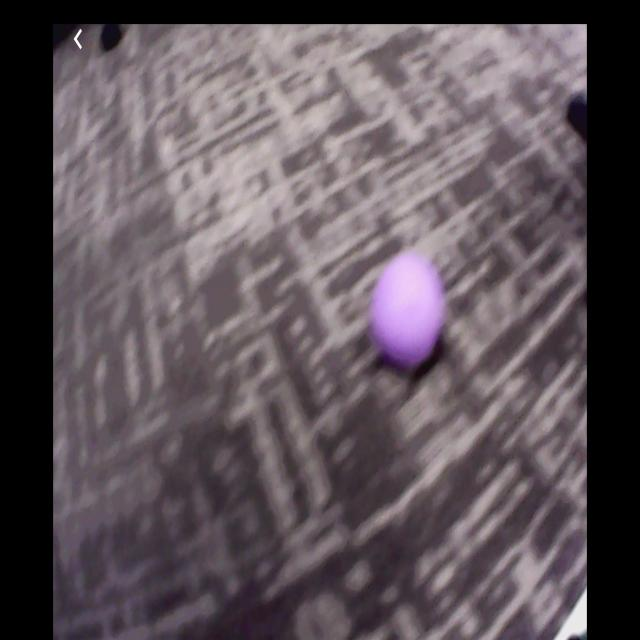ball: (373, 253, 444, 366)
